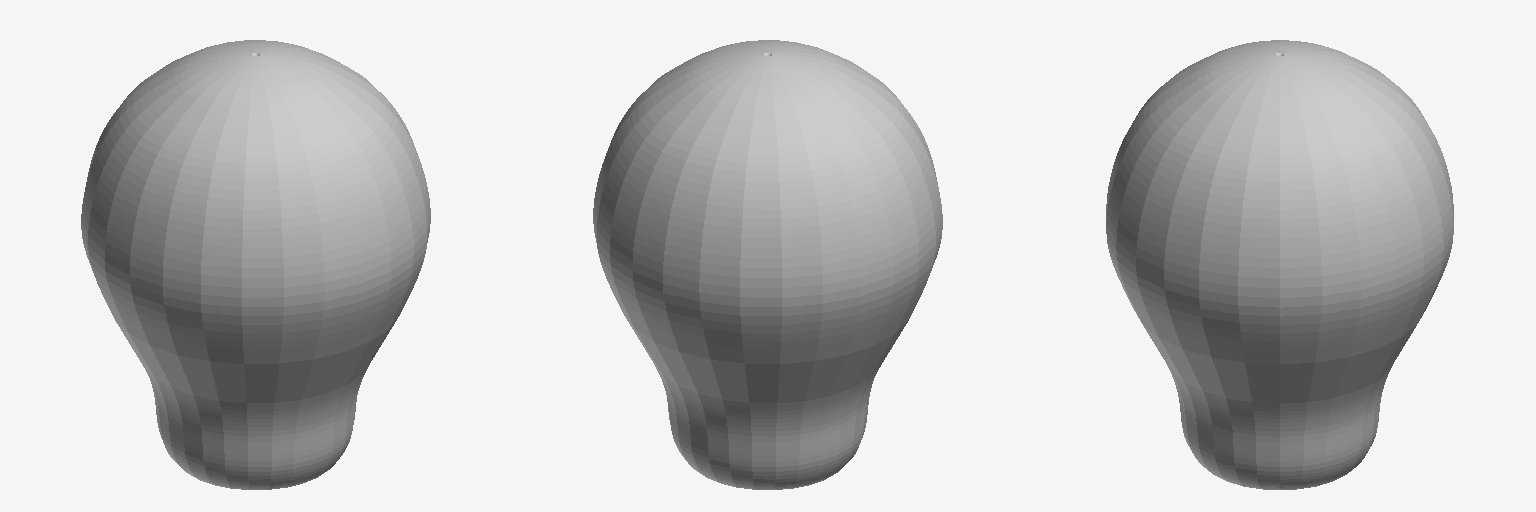
The model's file is point_light_blend.obj.
3 renders of one model, left to right at view 1: azimuth 30°, elevation 25°; view 2: azimuth 150°, elevation 25°; view 3: azimuth 270°, elevation 25°, orthographic.
Visible parts, largest first — view 1: Top; view 2: Top; view 3: Top.
Part boxes in pixels (left/top/right/bottom): Top: left=81, top=40, right=430, bottom=489; Top: left=593, top=40, right=942, bottom=489; Top: left=1106, top=40, right=1453, bottom=489.
Bounding box in the file's own units: 0.2133 × 0.271 × 0.2117.